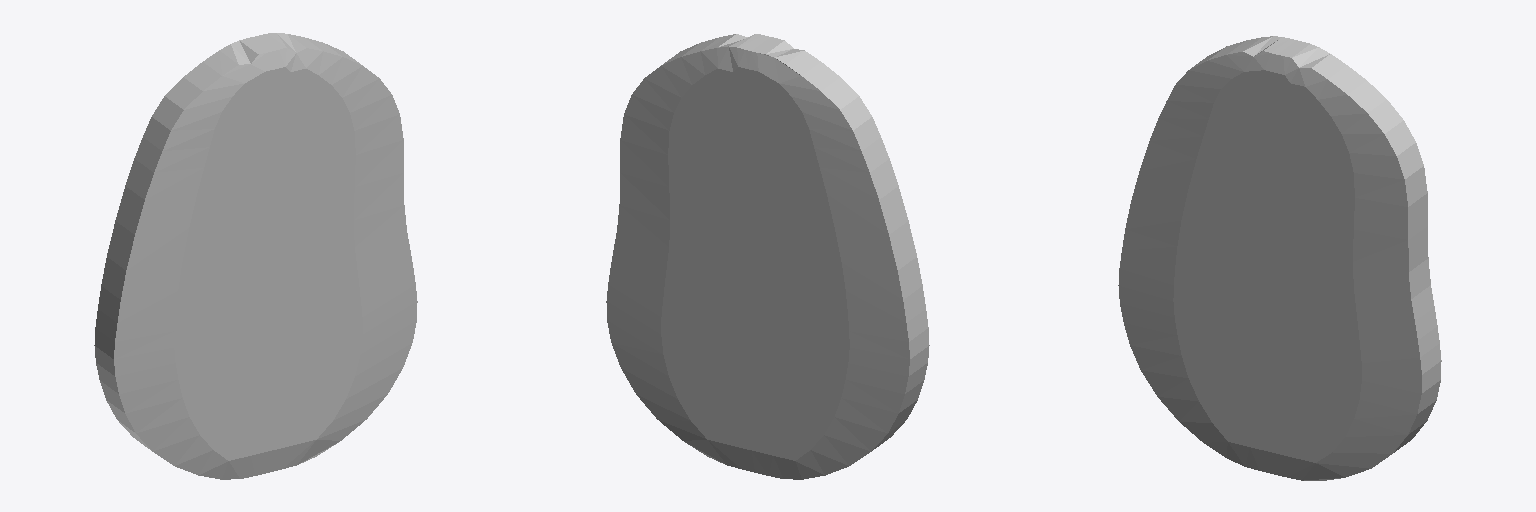
File: PattyPotato.obj
3 views of the same model, side by side, from view 1: azimuth 30°, elevation 25°; view 2: azimuth 150°, elevation 25°; view 3: azimuth 330°, elevation 25° (orthographic).
Visible parts, largest first — view 1: Patty; view 2: Patty; view 3: Patty.
Part boxes in pixels (left/top/right/bottom): Patty: left=94, top=33, right=417, bottom=479; Patty: left=606, top=34, right=929, bottom=479; Patty: left=1118, top=36, right=1441, bottom=480.
Bounding box in the file's own units: 0.0749 × 0.0991 × 0.0106.